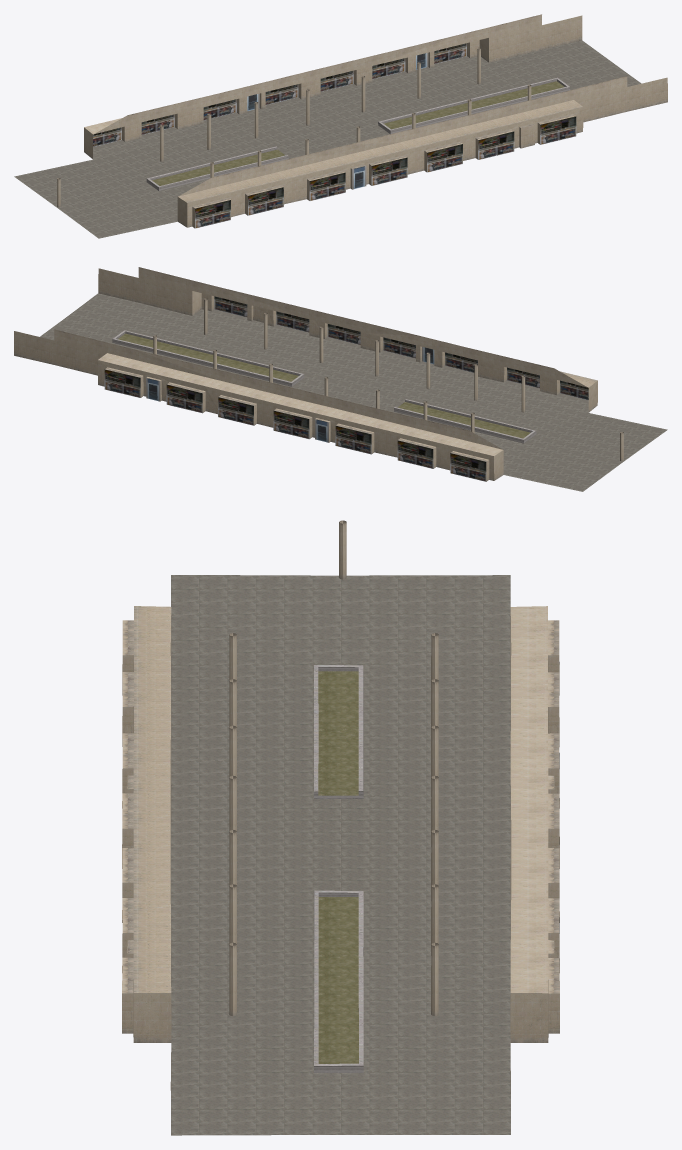
Rendered from plaza2bot_law.obj.
3 views of the same model, one above another, from view 1: azimuth 30°, elevation 25°; view 2: azimuth 150°, elevation 25°; view 3: azimuth 270°, elevation 25° (orthographic). The views are drawn at different scales.
Parts seen in each view (by area): view 1: plaza2bot_law; view 2: plaza2bot_law; view 3: plaza2bot_law.
Boxes of the visible parts, x1=… form: plaza2bot_law: x1=14, y1=14, x2=667, y2=238; plaza2bot_law: x1=14, y1=267, x2=667, y2=491; plaza2bot_law: x1=122, y1=520, x2=559, y2=1135.
Bounding box in the file's own units: 92.55 × 5.69 × 30.84.
